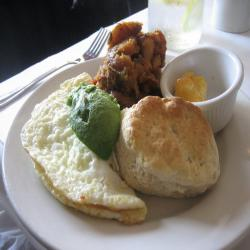bread: (113, 91, 231, 207)
omelette: (18, 64, 157, 227)
